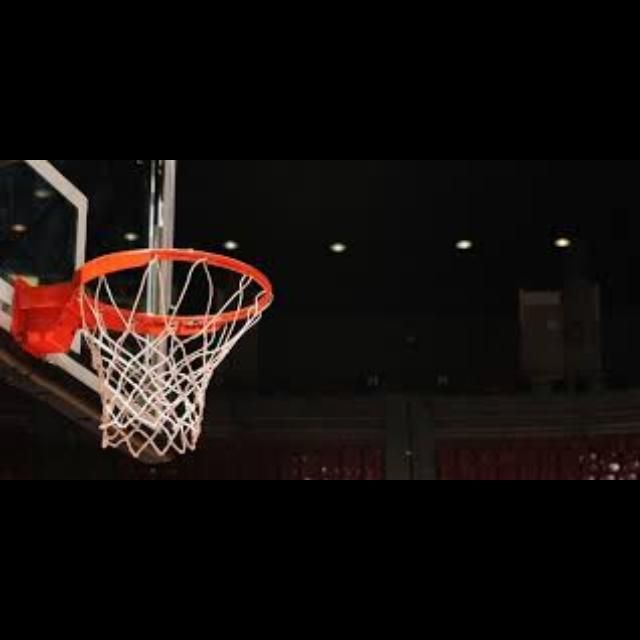rim: (75, 248, 272, 450)
